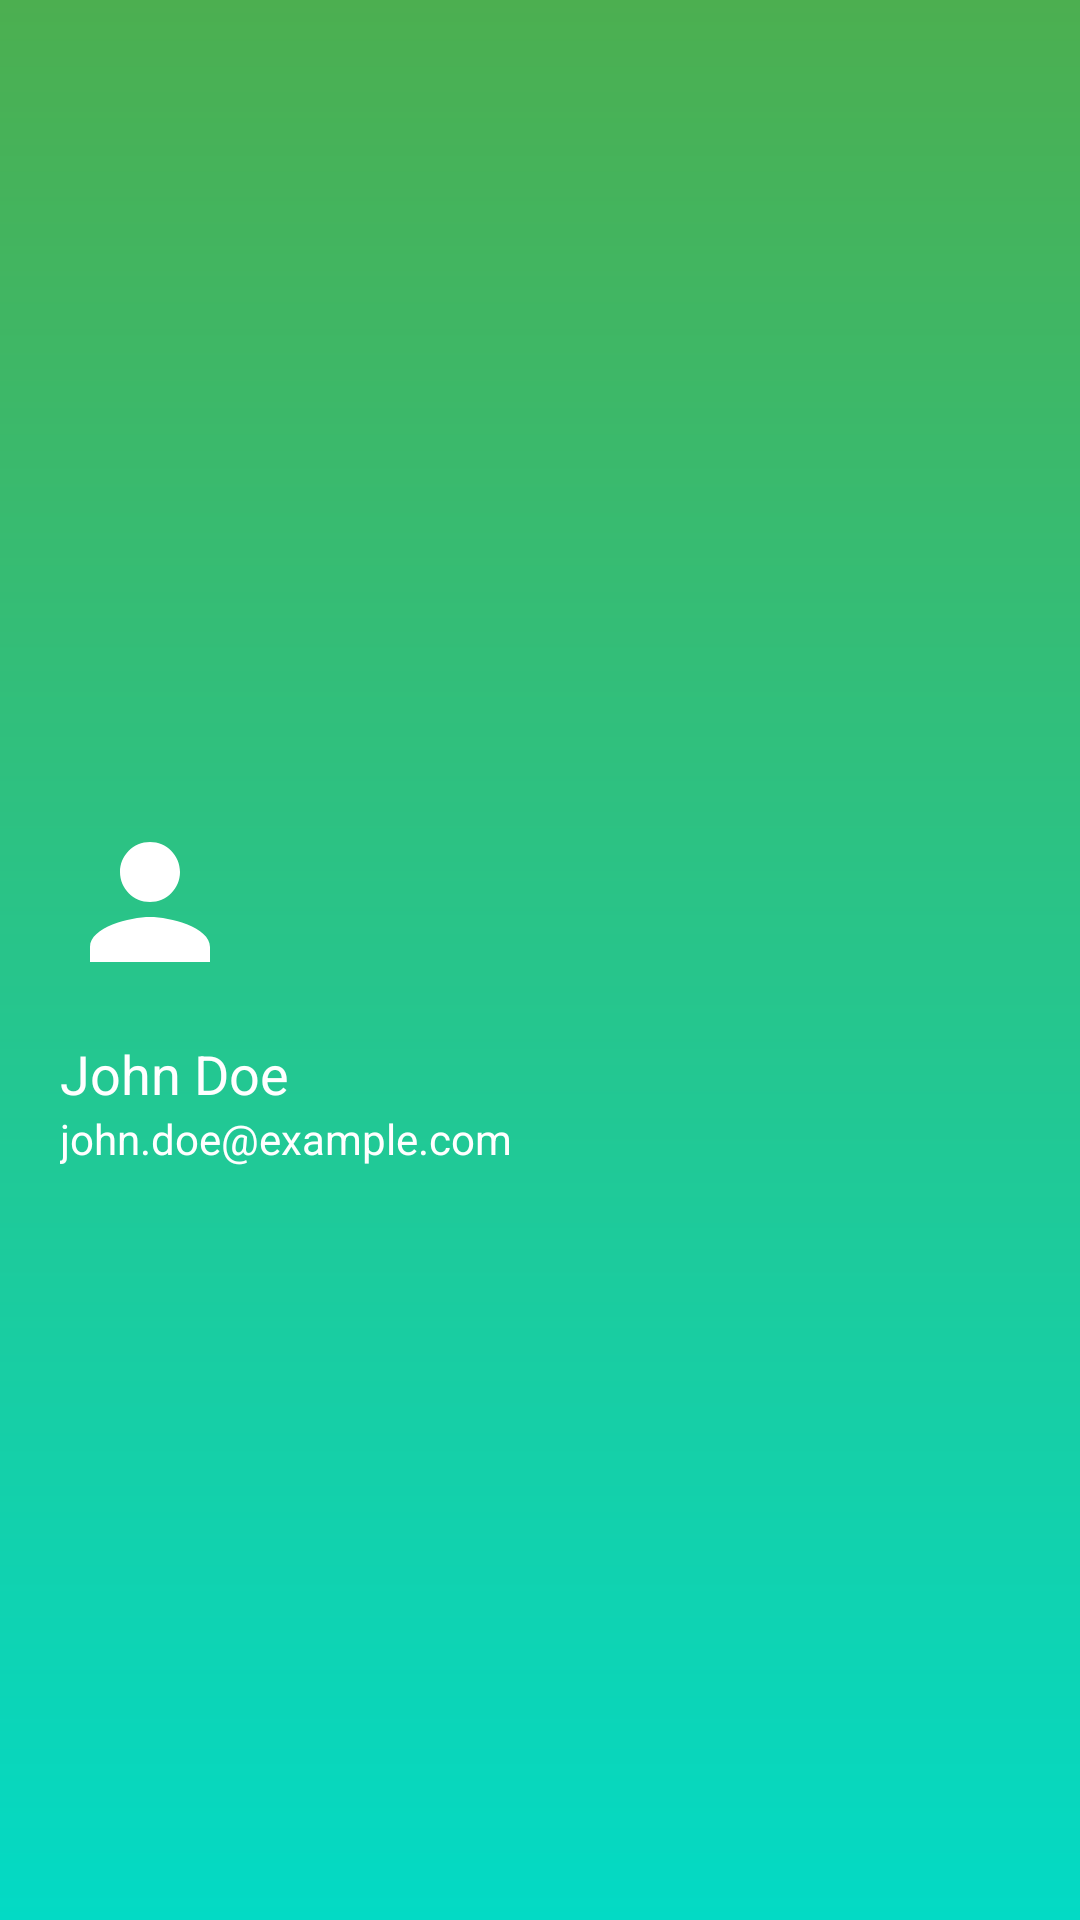

Icons on this 1080 x 1920 Android screen, each with its box as (x1, y1, x2, y2):
Profile Picture: (90, 842, 210, 962)
